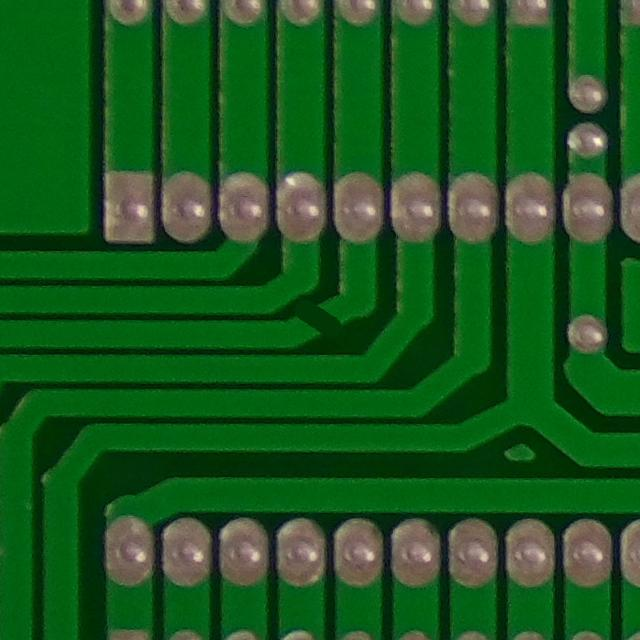open_circuit: (287, 293, 353, 347)
